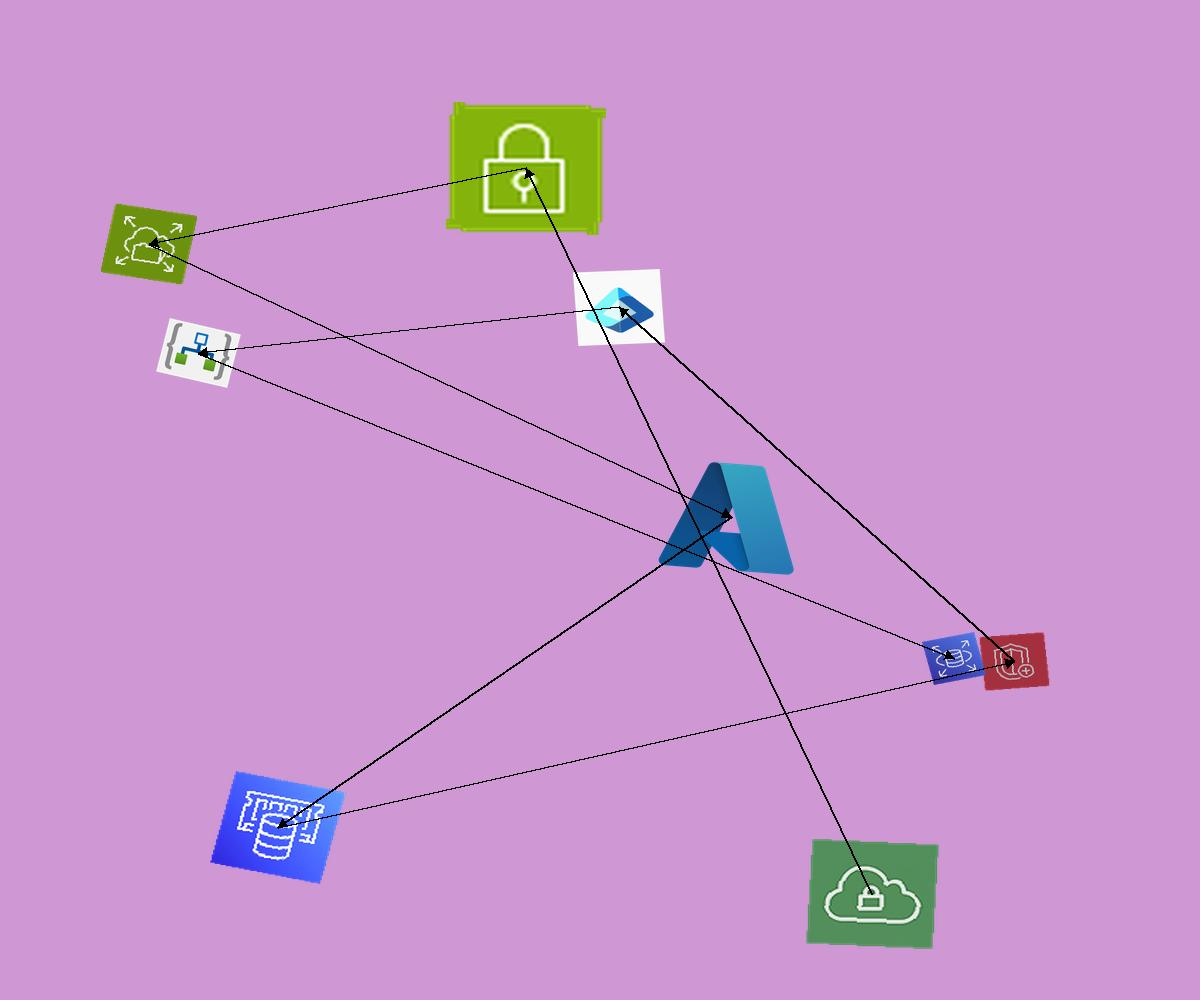AWS-EFS: (100, 203, 198, 285)
AWS-ElastiCache: (209, 770, 347, 885)
AWS-Private_vpc: (805, 838, 940, 950)
AWS-Public-subnet: (446, 102, 606, 235)
AWS-RDS: (922, 632, 986, 685)
AWS-Shield: (979, 632, 1050, 691)
Azure_integration-204-Logic-Apps: (156, 318, 241, 388)
Azure_microsoft_entra: (573, 269, 665, 346)
Azure_services: (651, 450, 812, 584)
